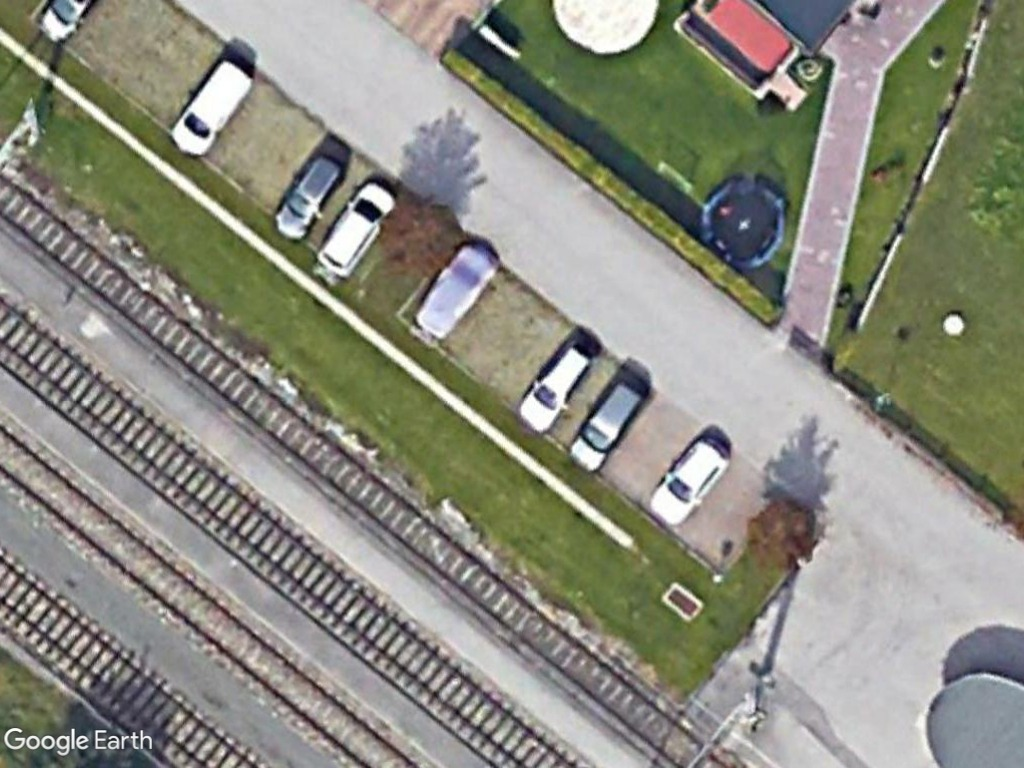car: (644, 430, 736, 532), (562, 373, 652, 475), (315, 175, 400, 278), (512, 334, 595, 438), (268, 146, 346, 245)
van: (163, 49, 262, 163)
